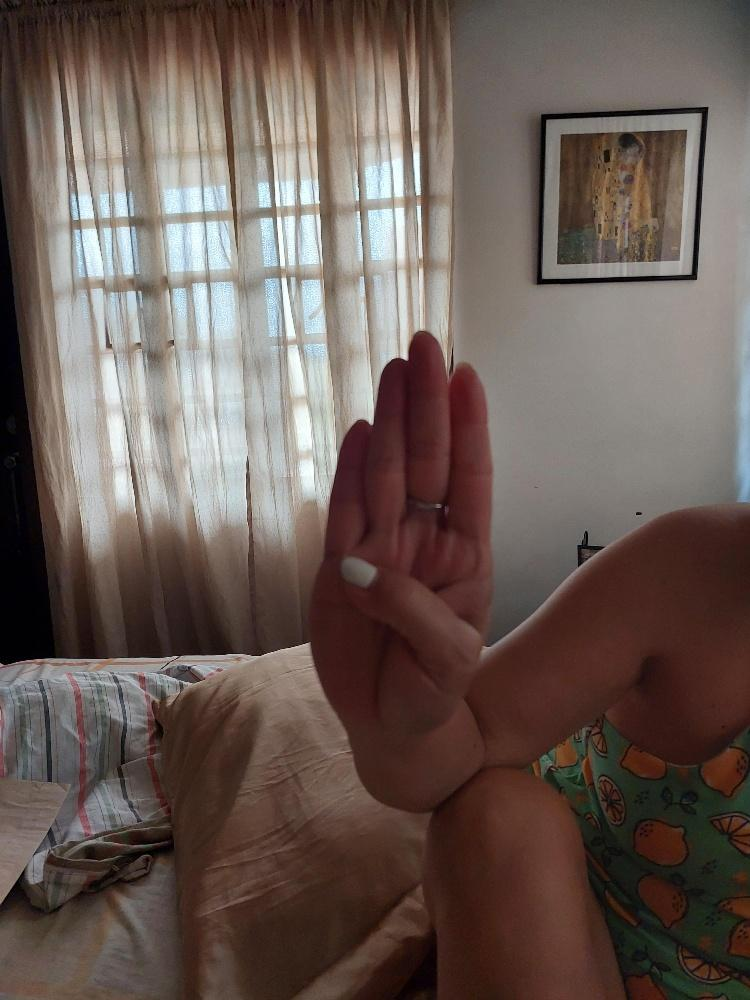b: (303, 323, 499, 736)
